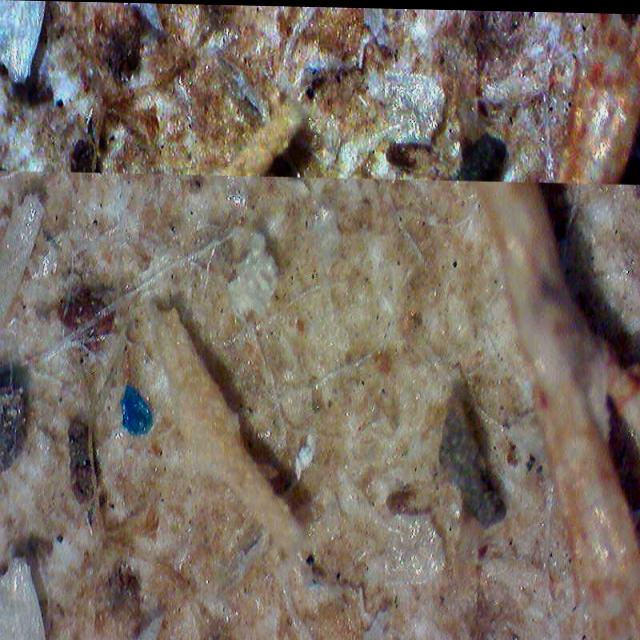microplastic: (117, 383, 156, 440)
